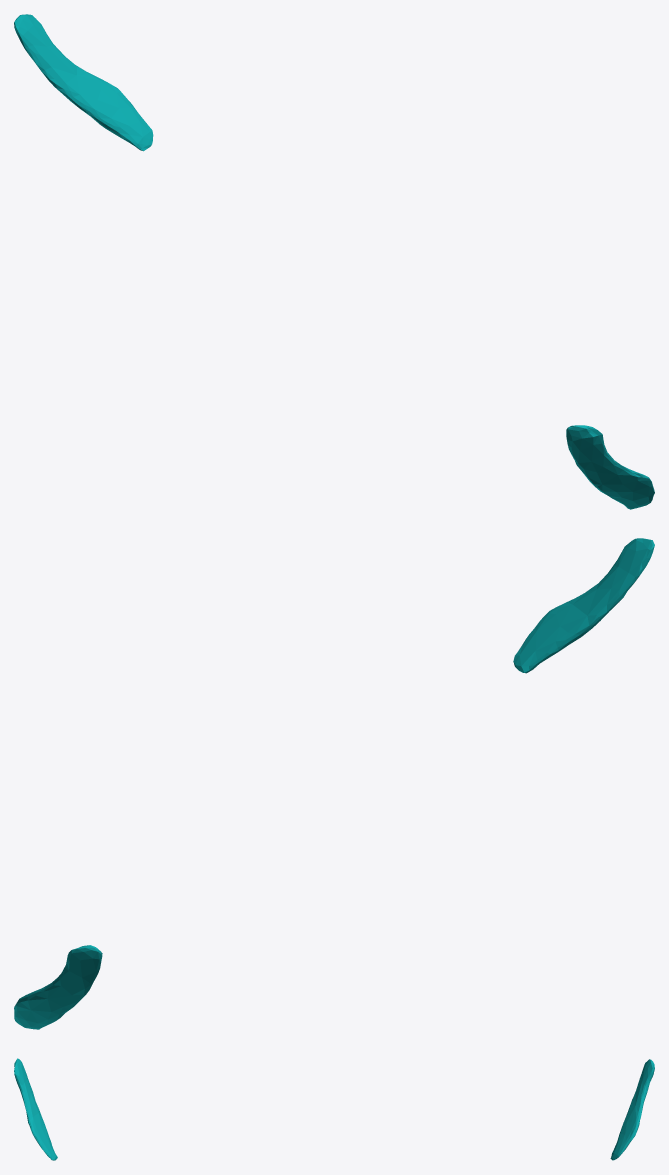
3 renders of one model, top to bottom at view 1: azimuth 30°, elevation 25°; view 2: azimuth 150°, elevation 25°; view 3: azimuth 270°, elevation 25°, orthographic. The views are drawn at different scales.
Visible parts, largest first — view 1: 678.obj; view 2: 678.obj; view 3: 678.obj.
Boxes of the visible parts, x1,y1,x2,y2 form: 678.obj: (14, 14, 654, 509); 678.obj: (14, 538, 654, 1029); 678.obj: (14, 1058, 654, 1160).
Bounding box in the file's own units: 1048 × 1171 × 9067.
